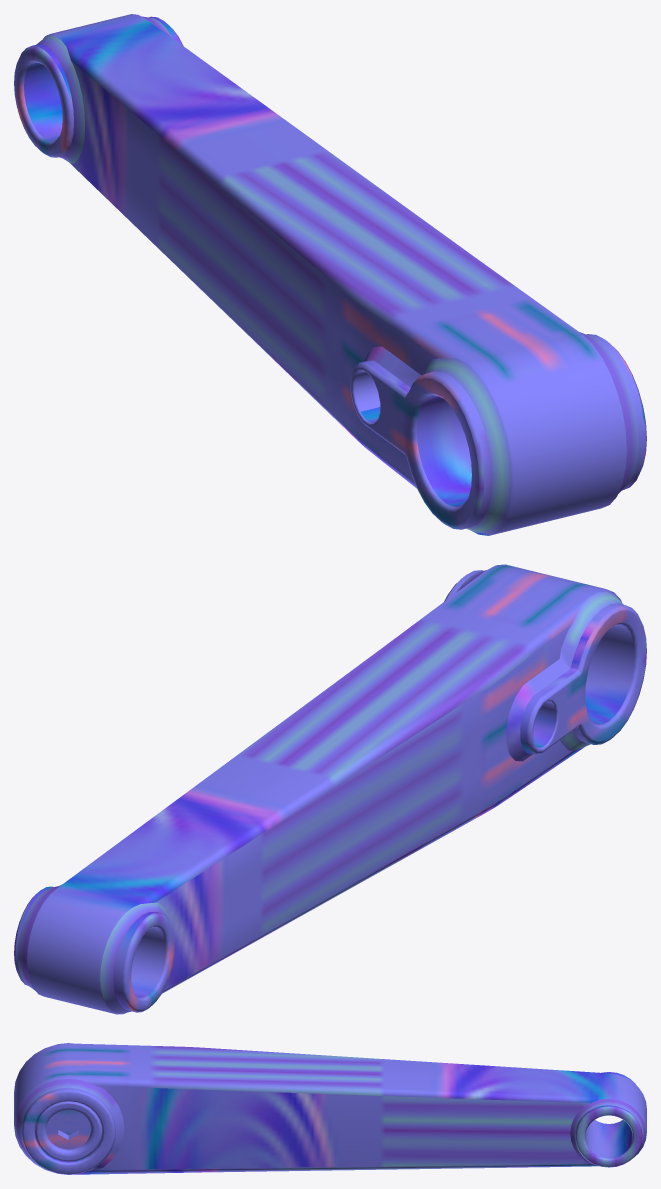
Rendered from BMX_CrankArm_Saturday_Morning 160mm.fbx.
The picture shows the model from 3 angles, top to bottom: view 1: azimuth 30°, elevation 25°; view 2: azimuth 150°, elevation 25°; view 3: azimuth 270°, elevation 25°; orthographic projection. The views are drawn at different scales.
Parts seen in each view (by area): view 1: BMX_CrankArm_Saturday_Morning160mm; view 2: BMX_CrankArm_Saturday_Morning160mm; view 3: BMX_CrankArm_Saturday_Morning160mm.
Part boxes in pixels (x1=…): BMX_CrankArm_Saturday_Morning160mm: x1=14, y1=14, x2=646, y2=535; BMX_CrankArm_Saturday_Morning160mm: x1=14, y1=564, x2=646, y2=1014; BMX_CrankArm_Saturday_Morning160mm: x1=14, y1=1043, x2=646, y2=1174.
Size of the model in its own units: 3.71 by 3.22 by 18.73.
Materials: 1 (1 with a texture image).
